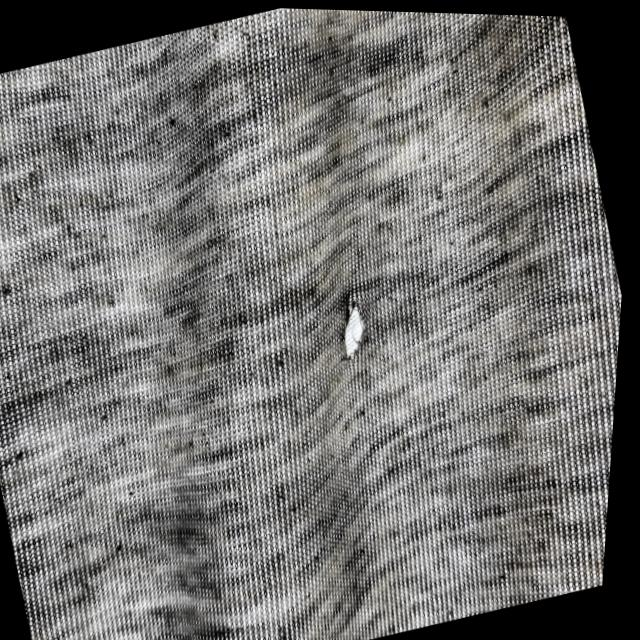Hole: (329, 285, 387, 367)
